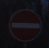No entry: (6, 5, 44, 43)
